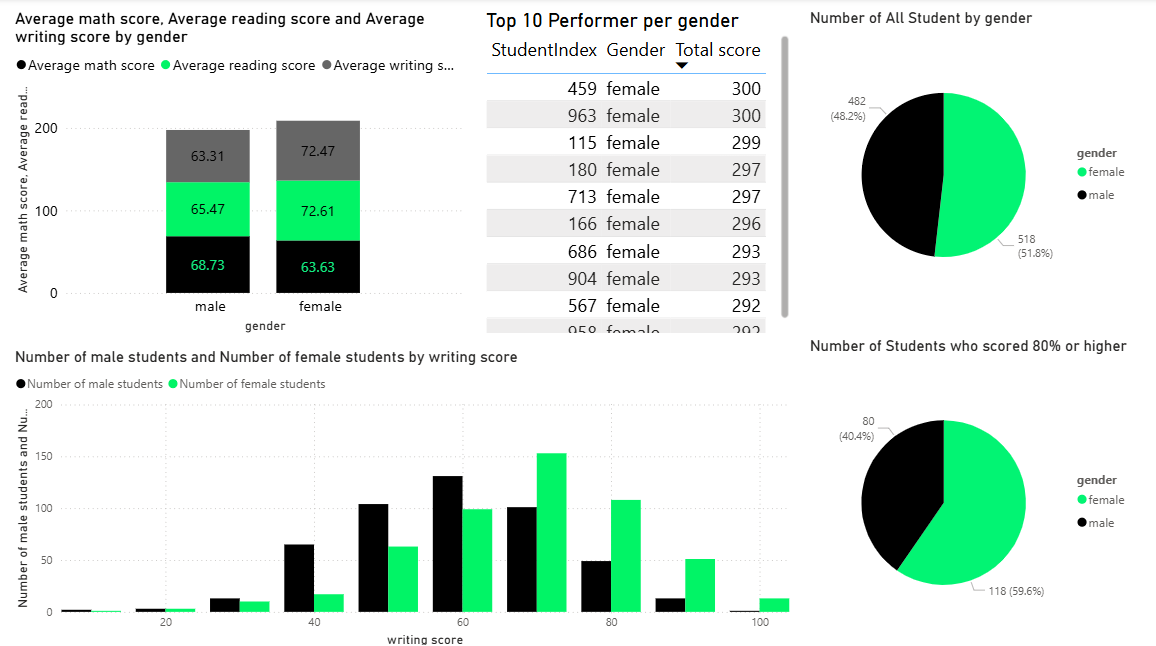

The dashboard page shown, as its layout file describes it:
{"tool":"powerbi","page":{"name":"Performance by Gender","canvas":[1280,720],"ordinal":1},"visuals":[{"type":"columnChart","fields":{"Category":["DimStudent.gender"],"Y":["_Measures.Average math score","_Measures.Average reading score","_Measures.Average writing score"]},"box":[11.6,11.6,505.2,362.8],"z":0},{"type":"clusteredColumnChart","fields":{"Category":["FactStudentsScores.math score (bins)","FactStudentsScores.reading score (bins)","FactStudentsScores.writing score (bins)"],"Y":["_Measures.Number of male students","_Measures.Number of female students"]},"box":[11.6,386,864.7,334.6],"z":1000},{"type":"tableEx","title":"Top 10 Performer per gender","fields":{"Values":["FactStudentsScores.StudentIndex","DimStudent.gender","_Measures.Total score"]},"box":[531.7,11.6,344.5,362.8],"z":2000},{"type":"pieChart","fields":{"Y":["_Measures.Number of All Student"],"Category":["DimStudent.gender"]},"box":[890.1,11.3,368.5,347.7],"z":3000},{"type":"pieChart","title":"Number of Students who scored 80% or higher","fields":{"Y":["_Measures.Nb_Female_Student with 80% or higher of Total Score","_Measures.Nb_Male_Student with 80% or higher of Total Score"],"Category":["DimStudent.gender"]},"box":[890.1,374.2,368.5,345.8],"z":4000}]}

Visuals, with their boxes in screenshot pixels (x1, y1, x2, y2), scaled from the page's 1280x720 canvas onto the 1156x646 screenshot:
columnChart - DimStudent.gender x _Measures.Average math score: 10/10/467/336
clusteredColumnChart - FactStudentsScores.math score (bins) x FactStudentsScores.reading score (bins): 10/346/791/645
"Top 10 Performer per gender" tableEx: 480/10/791/336
pieChart - _Measures.Number of All Student x DimStudent.gender: 804/10/1137/322
"Number of Students who scored 80% or higher" pieChart: 804/336/1137/645
